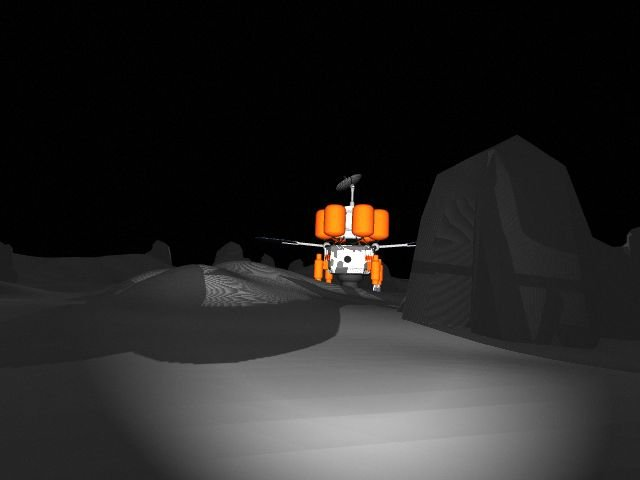homebase: (260, 174, 442, 294)
